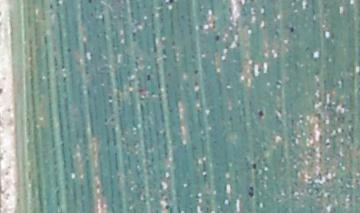tarspot: (256, 108, 265, 119), (226, 6, 233, 17), (64, 46, 73, 54), (213, 34, 221, 42), (323, 140, 331, 148), (289, 25, 296, 34), (250, 162, 257, 171), (102, 116, 109, 125), (160, 47, 167, 56), (247, 190, 254, 198), (163, 203, 170, 211), (145, 73, 151, 82), (192, 68, 199, 75), (247, 184, 254, 191), (106, 94, 113, 101), (130, 31, 137, 38), (48, 2, 54, 10), (109, 116, 115, 124), (166, 1, 176, 5), (1, 86, 4, 98), (86, 1, 94, 5), (247, 1, 255, 3)
